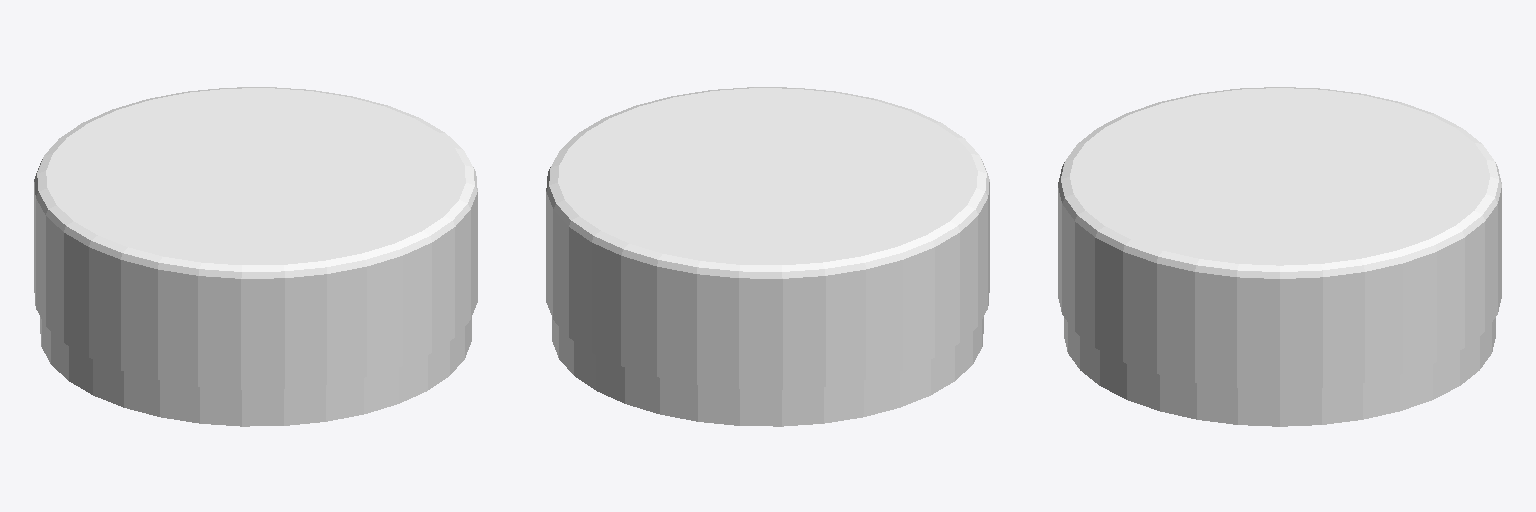
File: mdl_tapa_noname_04_02.obj
The picture shows the model from 3 angles: view 1: azimuth 30°, elevation 25°; view 2: azimuth 150°, elevation 25°; view 3: azimuth 270°, elevation 25°; orthographic projection.
Visible parts, largest first — view 1: mdl_tapa_nocarbonatada_33mm011; view 2: mdl_tapa_nocarbonatada_33mm011; view 3: mdl_tapa_nocarbonatada_33mm011.
Boxes of the visible parts, x1,y1,x2,y2 form: mdl_tapa_nocarbonatada_33mm011: [34, 87, 477, 426]; mdl_tapa_nocarbonatada_33mm011: [546, 87, 989, 426]; mdl_tapa_nocarbonatada_33mm011: [1058, 87, 1501, 426].
Bounding box in the file's own units: 3.8 × 1.5 × 3.8.